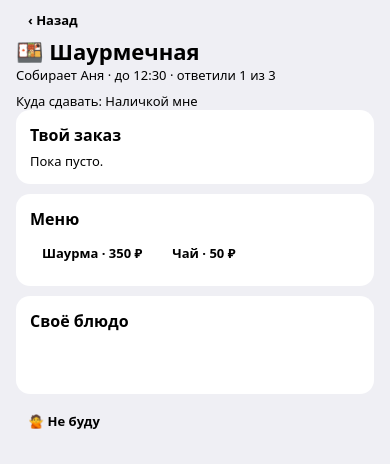
Scenario: OrderScreen — гонка тика и ручного действия › addOrderItem отказывает «Приём закрыт.» — текст виден, заказ перечитан заново
What coordinates should you click on to do the following:
click the button "Шаурма · 350 ₽"
I would click on:
 (92, 254)
Its box is [30, 236, 154, 272].
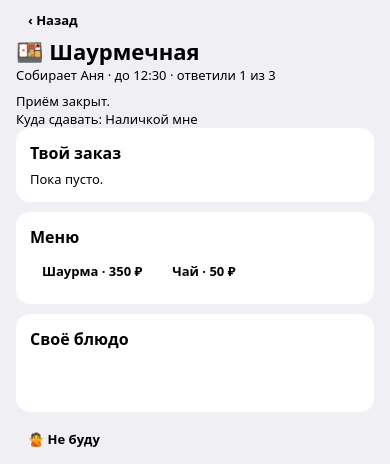
Expected: the text "Приём закрыт." is shown, [16, 92, 110, 110]
